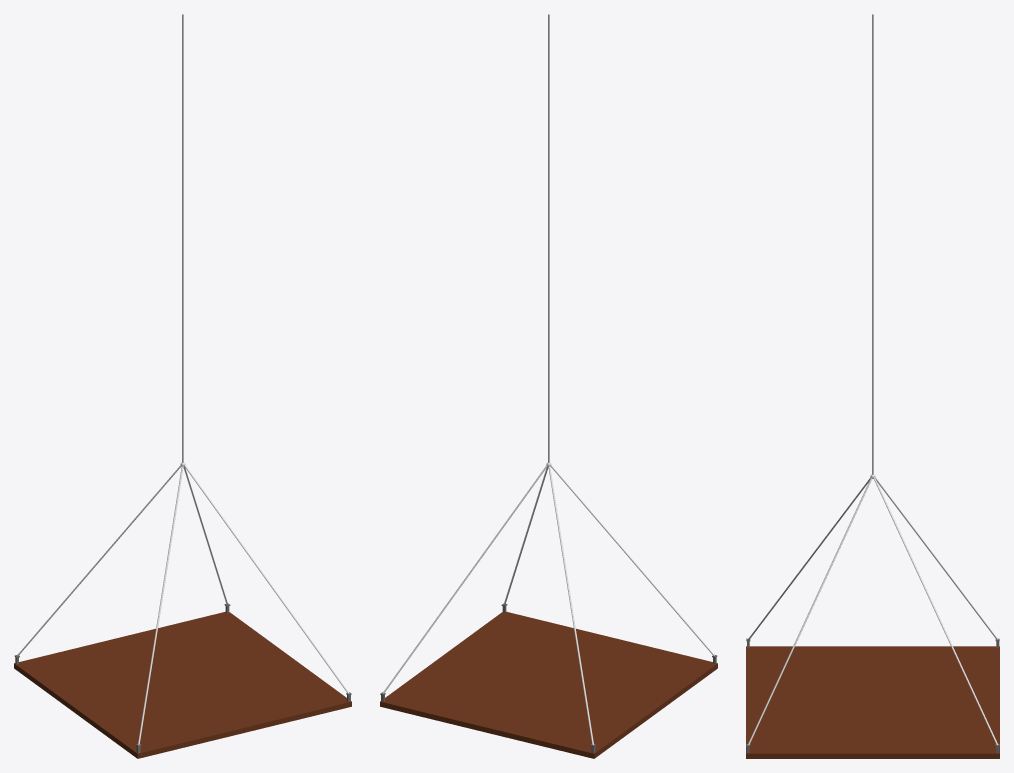
The model's file is LiftThingsUp.fbx.
3 renders of one model, left to right at view 1: azimuth 30°, elevation 25°; view 2: azimuth 150°, elevation 25°; view 3: azimuth 270°, elevation 25°, orthographic. The views are drawn at different scales.
Parts seen in each view (by area): view 1: Cube, Cylinder.004, Cylinder.002, Cylinder.003; view 2: Cube, Cylinder.004, Cylinder.001, Cylinder; view 3: Cube, Cylinder.004, Cylinder.003, Cylinder.
Boxes of the visible parts, x1,y1,x2,y2 form: Cube: (14, 611, 351, 758); Cylinder.004: (182, 14, 183, 462); Cylinder.002: (138, 466, 183, 744); Cylinder.003: (184, 465, 349, 693); Cube: (380, 611, 717, 758); Cylinder.004: (548, 14, 549, 462); Cylinder.001: (548, 466, 593, 744); Cylinder: (382, 465, 547, 693); Cube: (746, 646, 999, 758); Cylinder.004: (872, 14, 873, 474); Cylinder.003: (748, 478, 872, 744); Cylinder: (873, 478, 997, 744).
Size of the model in its own units: 1209 by 3630 by 1209.
